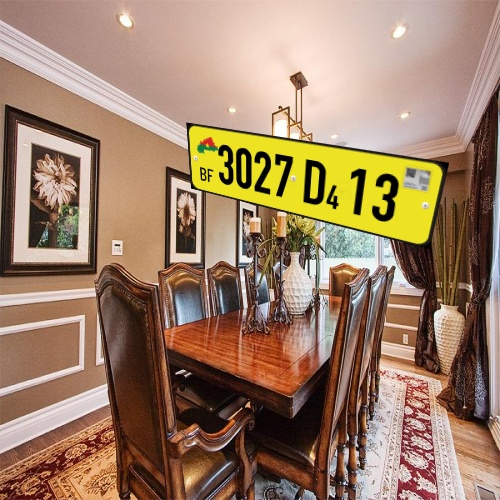plate: (162, 104, 456, 266)
